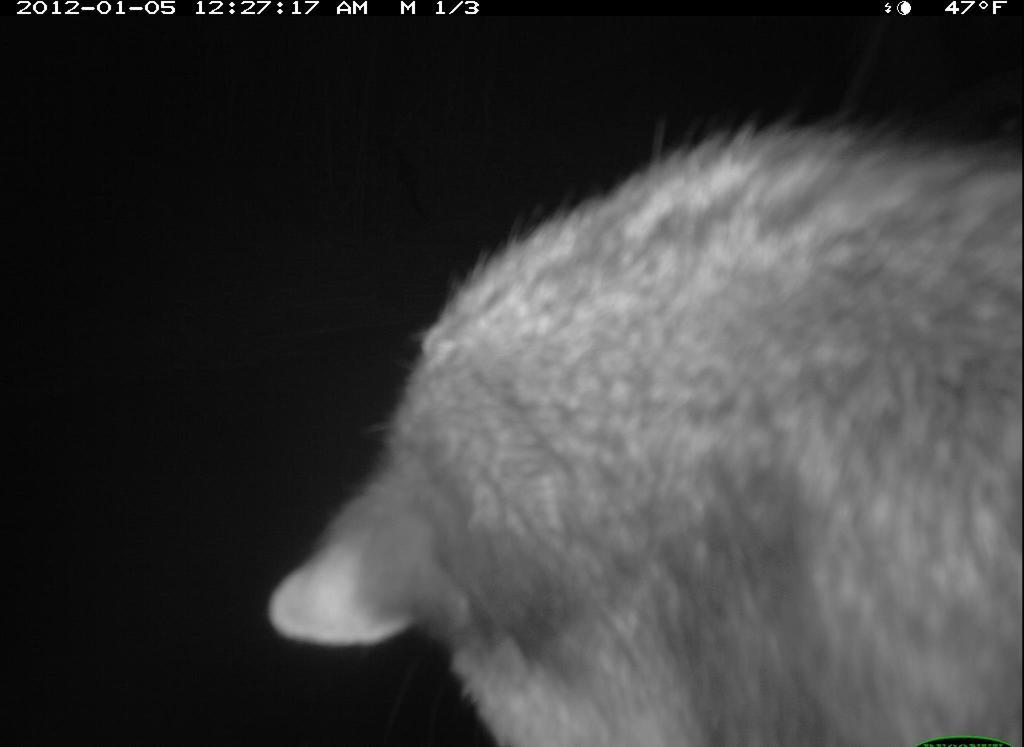raccoon: (271, 95, 1024, 747)
